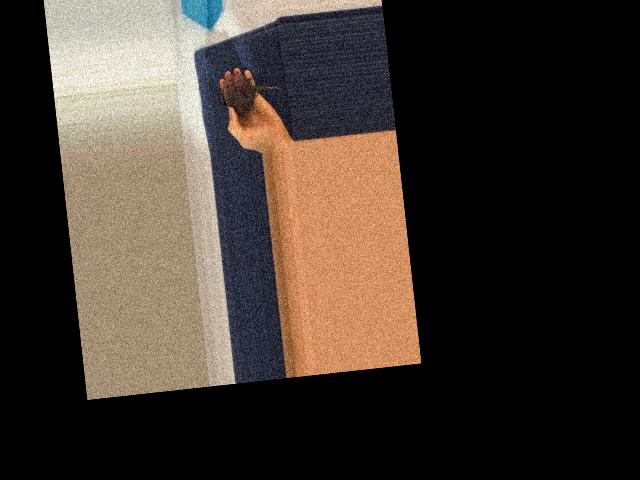beet: (216, 68, 284, 115)
